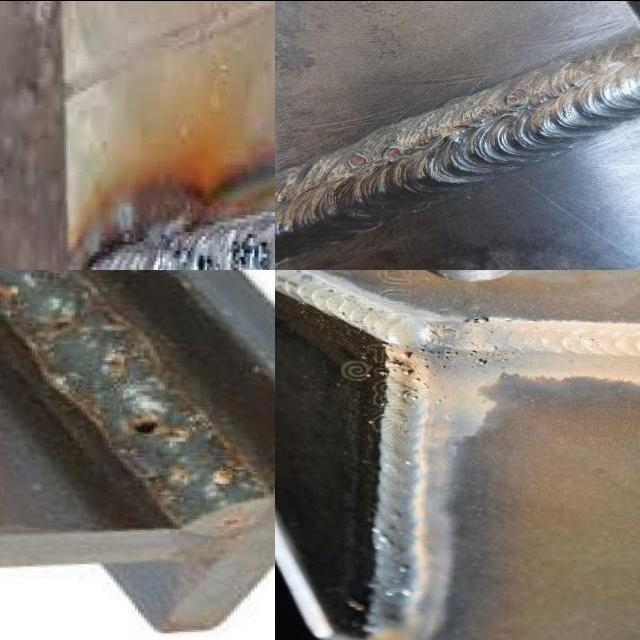defect: (387, 344, 460, 411), (225, 225, 273, 269), (128, 414, 163, 440), (455, 314, 499, 327), (344, 148, 370, 170), (465, 347, 490, 368), (194, 248, 217, 269), (382, 143, 405, 163), (504, 88, 529, 106), (472, 106, 496, 122), (425, 122, 444, 137)
